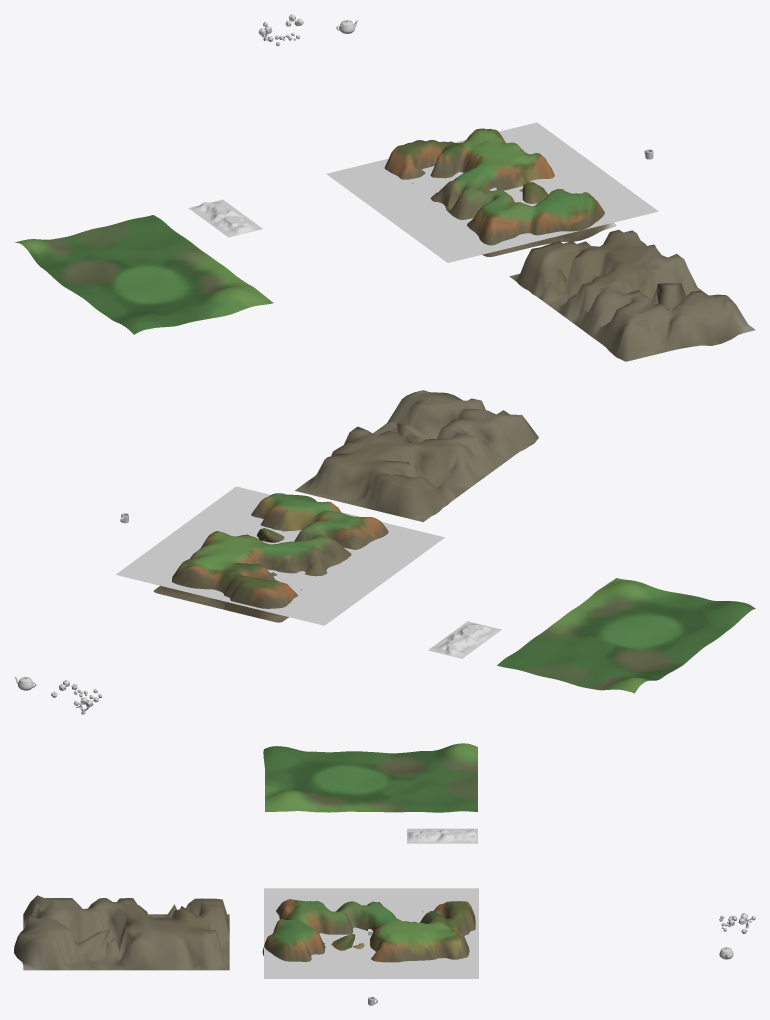
Rendered from course2.glb.
3 views of the same model, one above another, from view 1: azimuth 30°, elevation 25°; view 2: azimuth 150°, elevation 25°; view 3: azimuth 270°, elevation 25° (orthographic). The views are drawn at different scales.
Parts seen in each view (by area): view 1: CliffyCourse.001, Couse1, CliffyCourse, Plane, Landscape1.001; view 2: CliffyCourse.001, Couse1, CliffyCourse, Plane, Landscape1.001; view 3: CliffyCourse.001, Couse1, Plane, CliffyCourse, Landscape1.001.
Boxes of the visible parts, <box> form: CliffyCourse.001: <box>509,230,755,361</box>; Couse1: <box>15,215,273,334</box>; CliffyCourse: <box>384,128,616,256</box>; Plane: <box>326,122,658,262</box>; Landscape1.001: <box>188,199,262,237</box>; CliffyCourse.001: <box>295,390,538,522</box>; Couse1: <box>497,578,755,693</box>; CliffyCourse: <box>153,493,388,622</box>; Plane: <box>115,486,444,625</box>; Landscape1.001: <box>428,621,501,658</box>; CliffyCourse.001: <box>14,895,229,970</box>; Couse1: <box>263,743,477,812</box>; Plane: <box>264,888,478,978</box>; CliffyCourse: <box>262,899,475,962</box>; Landscape1.001: <box>407,828,477,843</box>.
Size of what is drawn, in the model's own units: 167 by 9.44 by 209.
